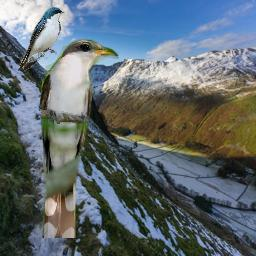Cuckoo: (38, 38, 119, 238)
Swallow: (17, 7, 65, 72)
